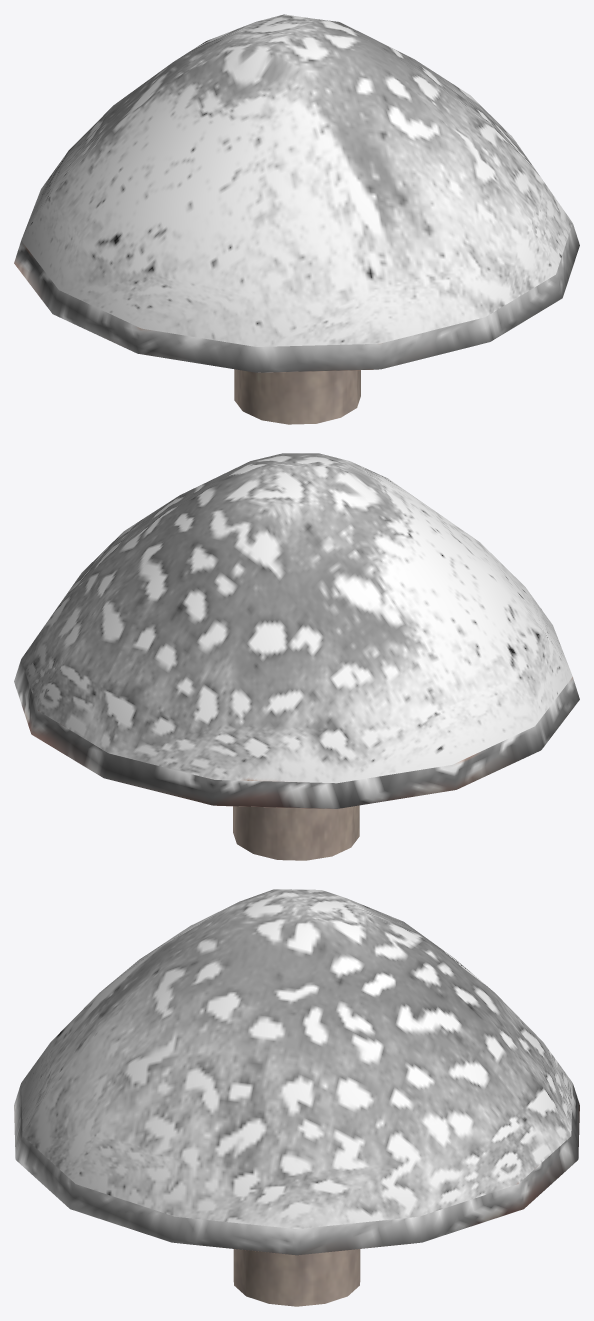
The model's file is mushy5.FBX.
3 views of the same model, one above another, from view 1: azimuth 30°, elevation 25°; view 2: azimuth 150°, elevation 25°; view 3: azimuth 270°, elevation 25° (orthographic). The views are drawn at different scales.
Visible parts, largest first — view 1: mushy5uv; view 2: mushy5uv; view 3: mushy5uv.
Part boxes in pixels (x1,y1,x2,y2): mushy5uv: (14,14,579,424); mushy5uv: (14,453,579,860); mushy5uv: (14,889,579,1306).
Size of the model in its own units: 9.36 by 6.7 by 9.15.
